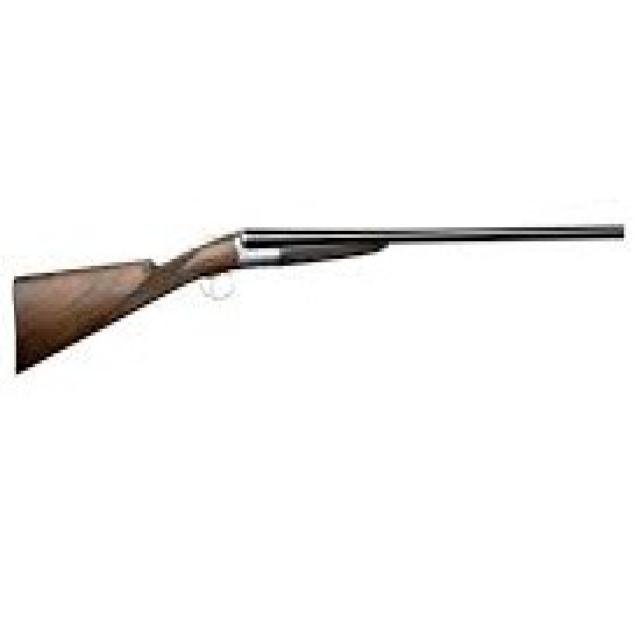rifle: (6, 208, 629, 384)
